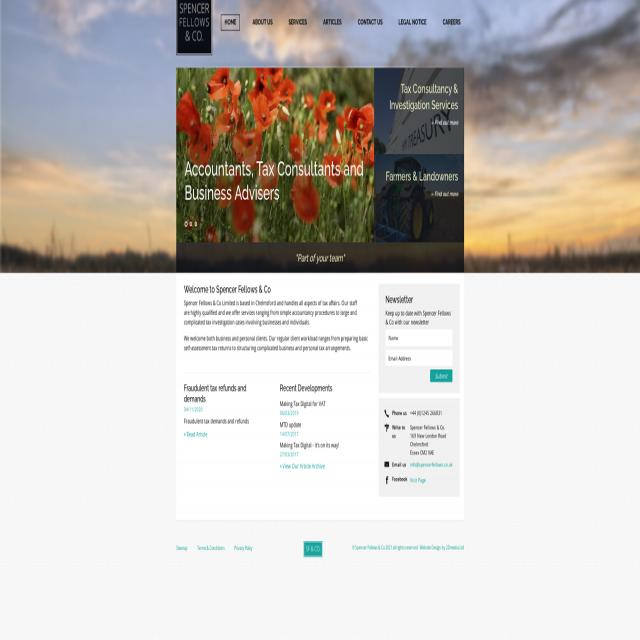button: (176, 0, 212, 55), (304, 541, 322, 557)
field: (386, 329, 452, 346), (386, 349, 452, 366), (430, 370, 452, 381)
